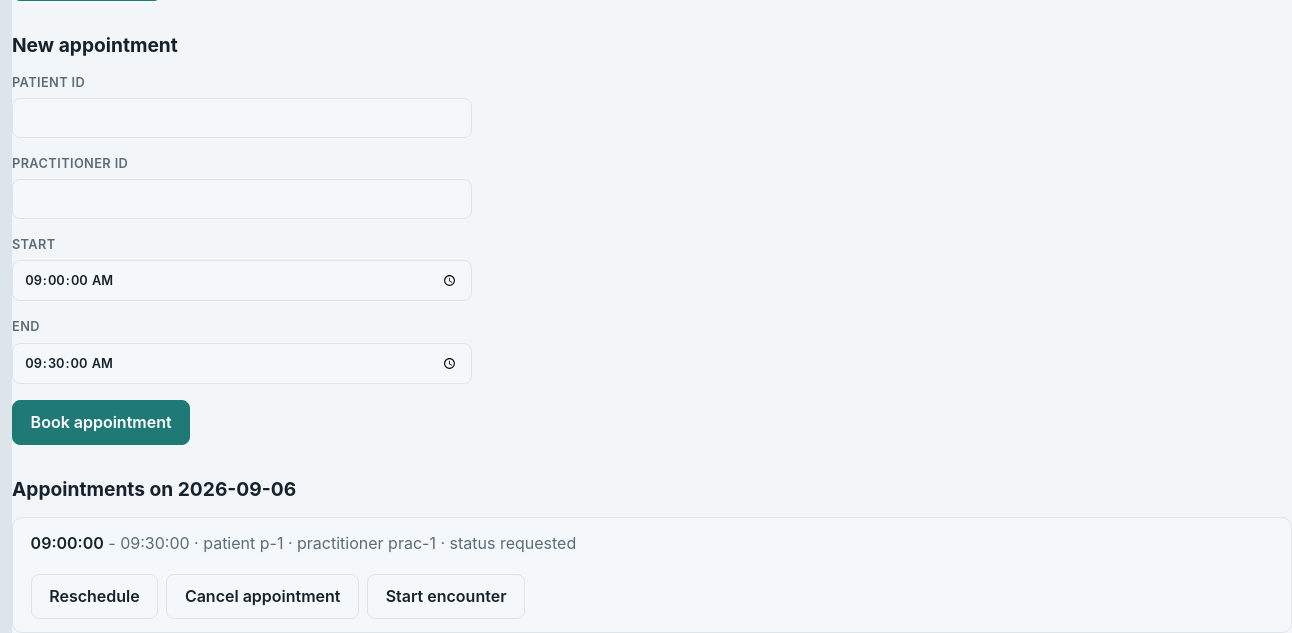
it: Schedule appointment and encounter actions › starts an encounter, then completes it
(page scrolled)
Click the button "Start encounter" at (446, 597), box [367,574,525,619]
(page scrolled)
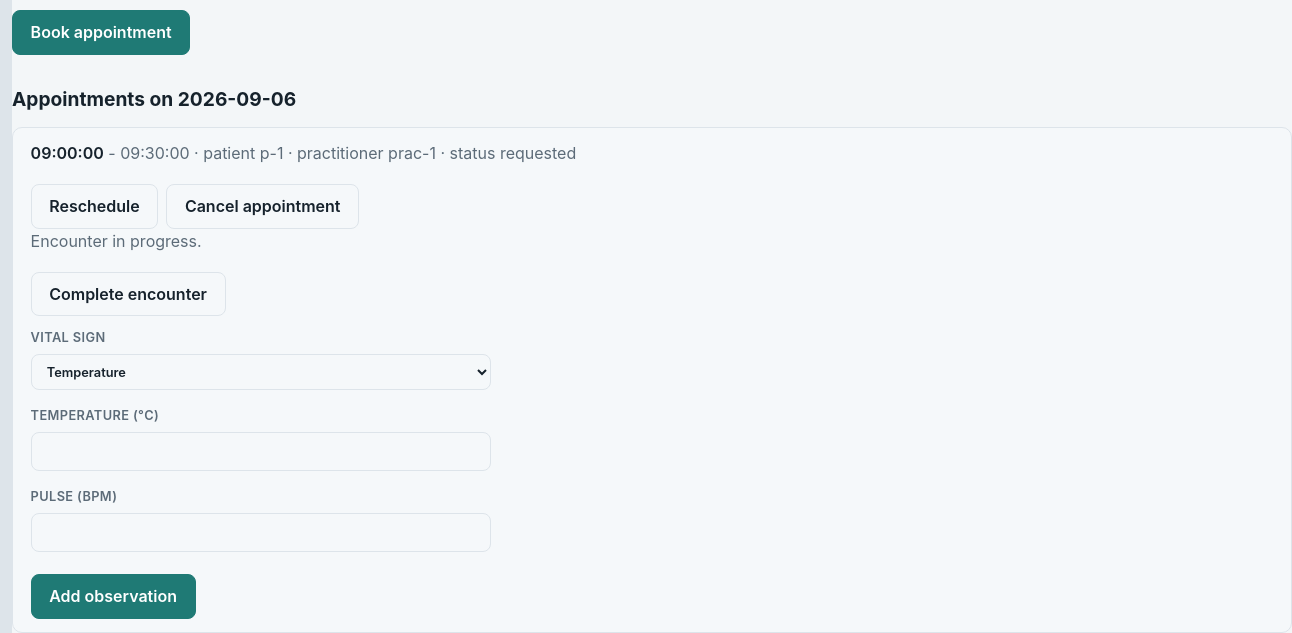
Expected: the text "Encounter in progress." is shown, [31,231,202,251]
Click the button "Complete encounter" at (128, 294), box [31,272,226,316]
(page scrolled)
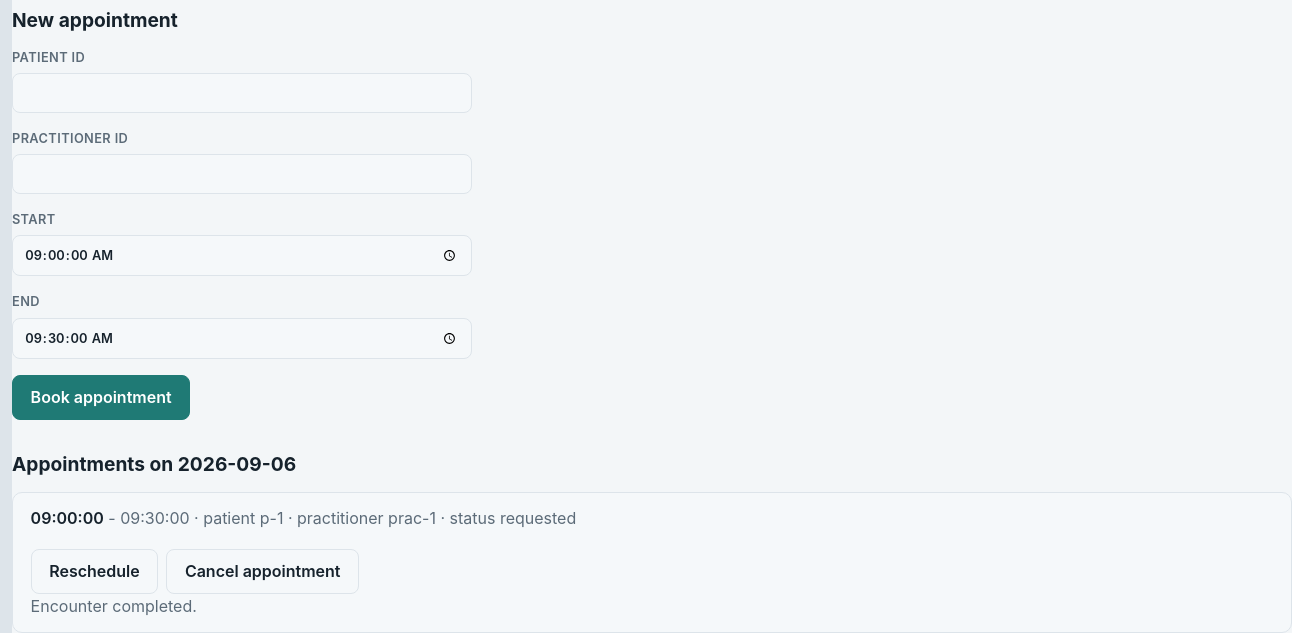
Expected: the text "Encounter completed." is shown, [31,596,197,616]
